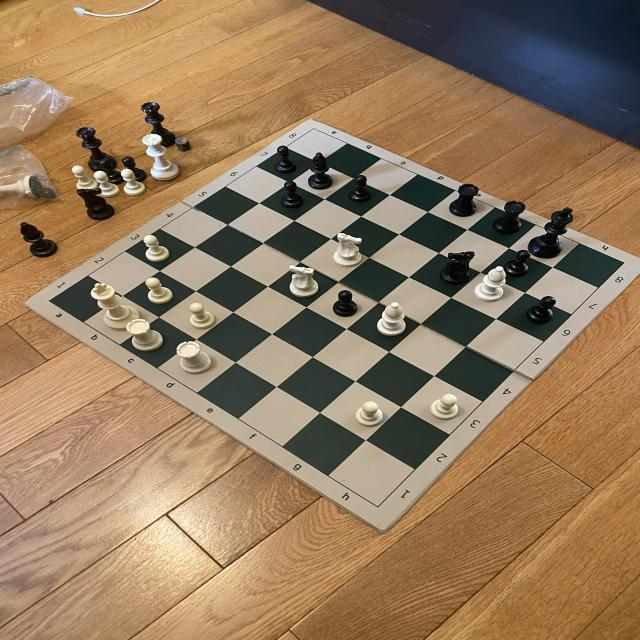chess-table-corners: (370, 498, 388, 512), (616, 256, 630, 268), (40, 296, 56, 305), (308, 126, 319, 136)
